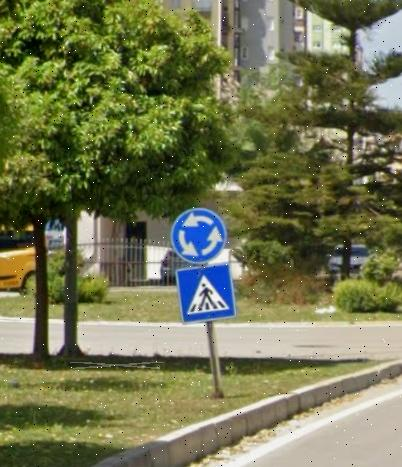crossroads: (171, 208, 227, 266)
